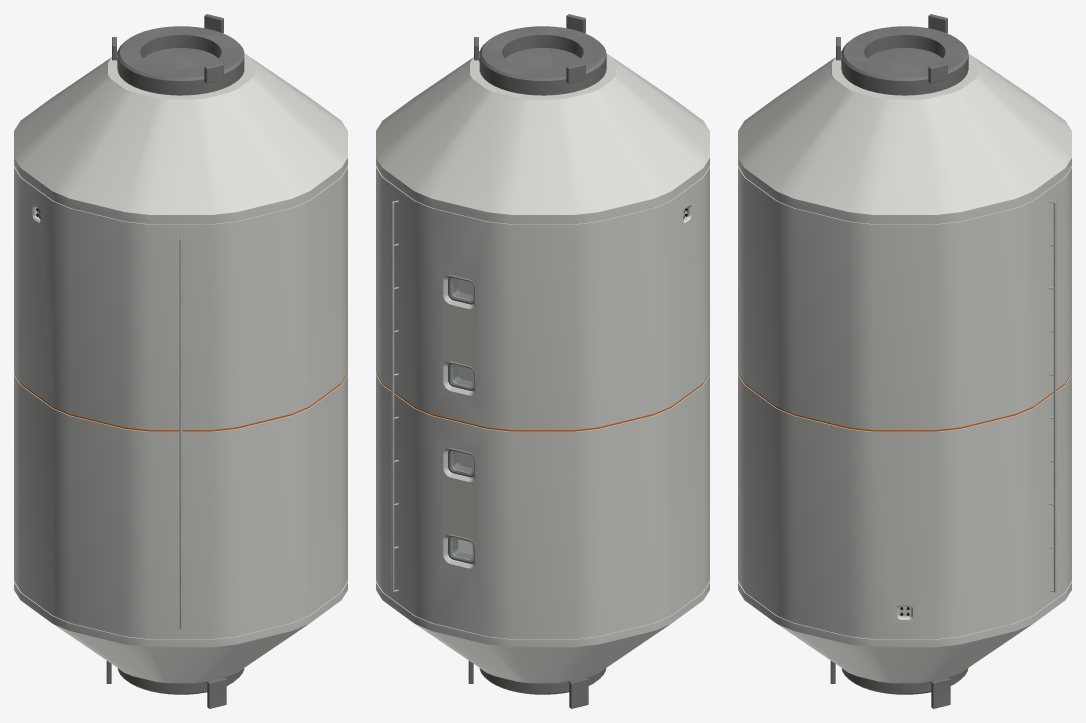
File: ax_station_10_greenhouse.glb
The picture shows the model from 3 angles, left to right: view 1: azimuth 30°, elevation 25°; view 2: azimuth 150°, elevation 25°; view 3: azimuth 270°, elevation 25°; orthographic projection.
Visible parts, largest first — view 1: pressure_hull, port_top, handrails, hatch_door_2, port_bottom, port_top_petals, orange_stripes, port_bottom_petals; view 2: pressure_hull, port_top, handrails, window_glass, hatch_door_2, port_bottom, port_top_petals, window_frames, orange_stripes, port_bottom_petals; view 3: pressure_hull, port_top, handrails, hatch_door_2, port_bottom, port_top_petals, orange_stripes, port_bottom_petals.
Boxes of the visible parts, x1=… form: pressure_hull: x1=14, y1=53, x2=347, y2=683; port_top: x1=117, y1=26, x2=244, y2=95; handrails: x1=179, y1=236, x2=182, y2=628; hatch_door_2: x1=143, y1=48, x2=218, y2=69; port_bottom: x1=117, y1=668, x2=244, y2=694; port_top_petals: x1=112, y1=14, x2=223, y2=83; orange_stripes: x1=14, y1=374, x2=347, y2=431; port_bottom_petals: x1=106, y1=661, x2=226, y2=708; pressure_hull: x1=376, y1=53, x2=709, y2=683; port_top: x1=479, y1=26, x2=606, y2=95; handrails: x1=391, y1=200, x2=398, y2=592; window_glass: x1=450, y1=278, x2=473, y2=560; hatch_door_2: x1=505, y1=48, x2=580, y2=69; port_bottom: x1=479, y1=668, x2=606, y2=694; port_top_petals: x1=474, y1=14, x2=585, y2=83; window_frames: x1=448, y1=276, x2=474, y2=563; orange_stripes: x1=376, y1=374, x2=709, y2=431; port_bottom_petals: x1=468, y1=661, x2=588, y2=708; pressure_hull: x1=738, y1=53, x2=1071, y2=683; port_top: x1=841, y1=26, x2=968, y2=95; handrails: x1=1049, y1=200, x2=1056, y2=592; hatch_door_2: x1=867, y1=48, x2=942, y2=69; port_bottom: x1=841, y1=668, x2=968, y2=694; port_top_petals: x1=836, y1=14, x2=947, y2=83; orange_stripes: x1=738, y1=374, x2=1071, y2=431; port_bottom_petals: x1=830, y1=661, x2=950, y2=708.
Size of the model in its own units: 4.2 by 8.87 by 4.2.
Materials: 6 (2 with a texture image).
